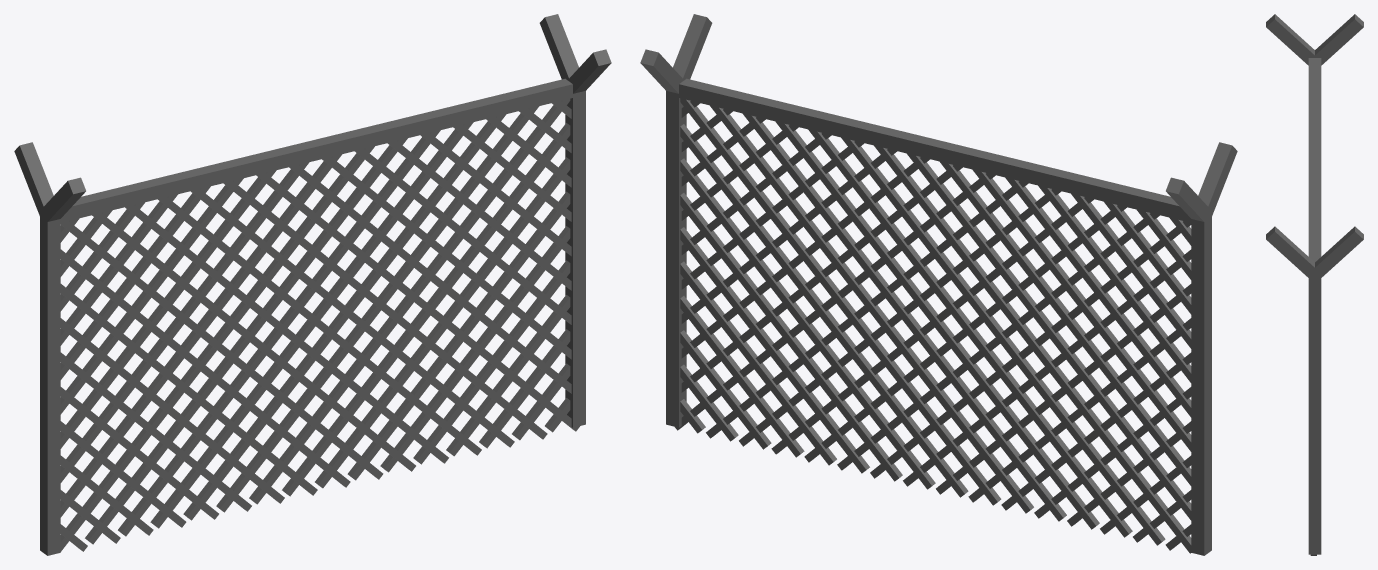
File: WireFence.fbx
3 views of the same model, side by side, from view 1: azimuth 30°, elevation 25°; view 2: azimuth 150°, elevation 25°; view 3: azimuth 270°, elevation 25° (orthographic). The views are drawn at different scales.
Visible parts, largest first — view 1: WireFence; view 2: WireFence; view 3: WireFence.
Boxes of the visible parts, x1=… form: WireFence: x1=14, y1=14, x2=611, y2=555; WireFence: x1=640, y1=14, x2=1237, y2=555; WireFence: x1=1266, y1=14, x2=1363, y2=555.
Size of the model in its own units: 8.2 by 5.76 by 1.56.
